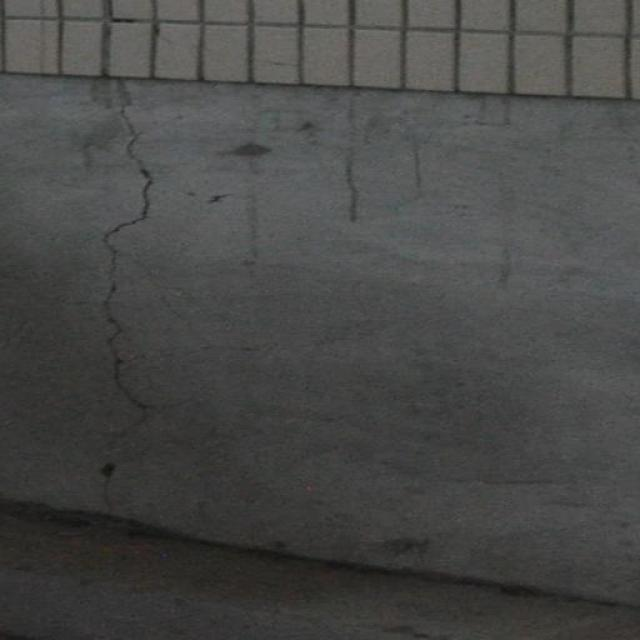D10: (80, 80, 155, 515)
